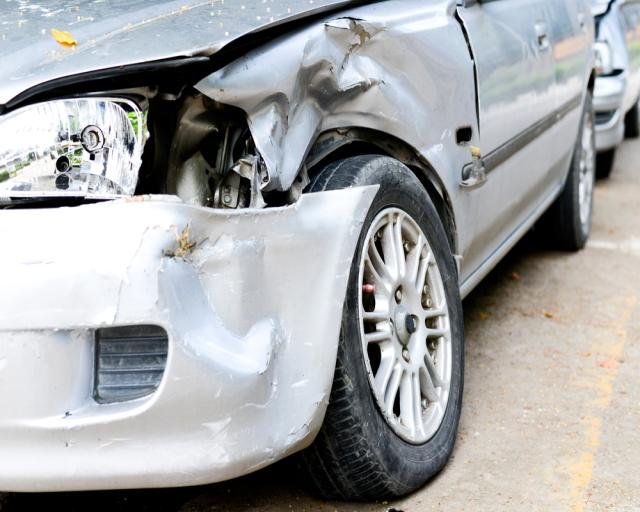dent: (159, 208, 338, 444), (250, 19, 444, 189)
lamp broken: (0, 90, 247, 205)
